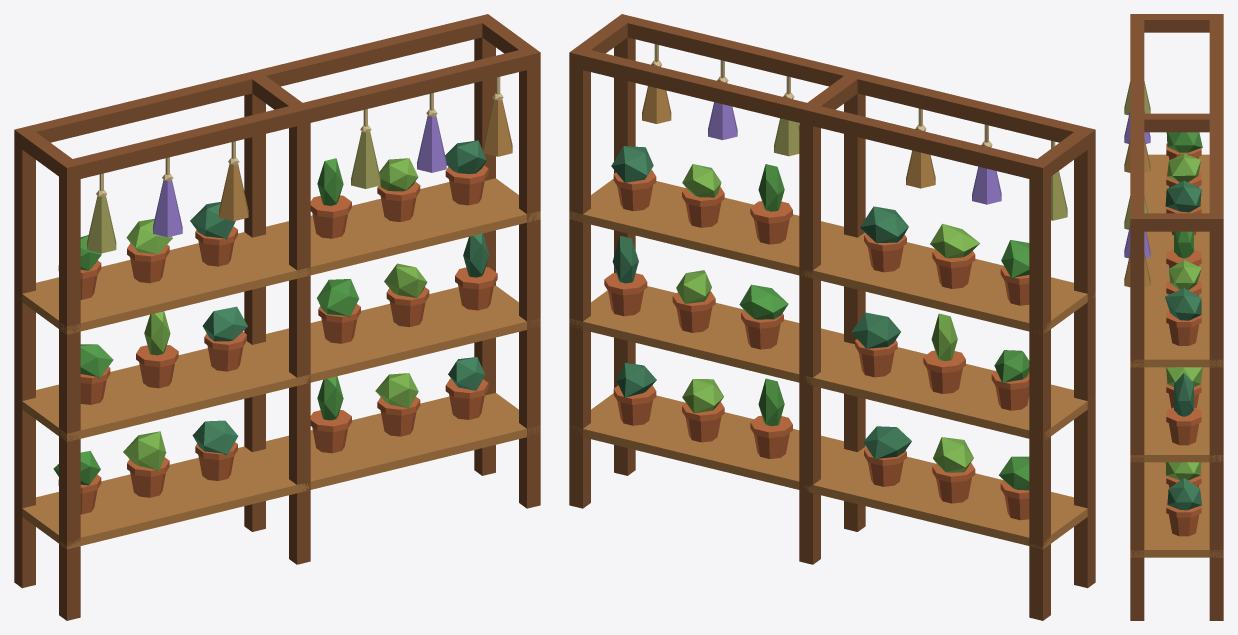
File: prop-herb-rack.glb
3 renders of one model, left to right at view 1: azimuth 30°, elevation 25°; view 2: azimuth 150°, elevation 25°; view 3: azimuth 270°, elevation 25°, orthographic. The views are drawn at different scales.
Parts seen in each view (by area): view 1: HerbRack; view 2: HerbRack; view 3: HerbRack.
Part boxes in pixels (box(x1,y1,x2,y2)): HerbRack: box(14, 14, 540, 620); HerbRack: box(569, 14, 1095, 620); HerbRack: box(1124, 14, 1223, 620).
Size of the model in its own units: 2.08 by 1.9 by 0.4263.
